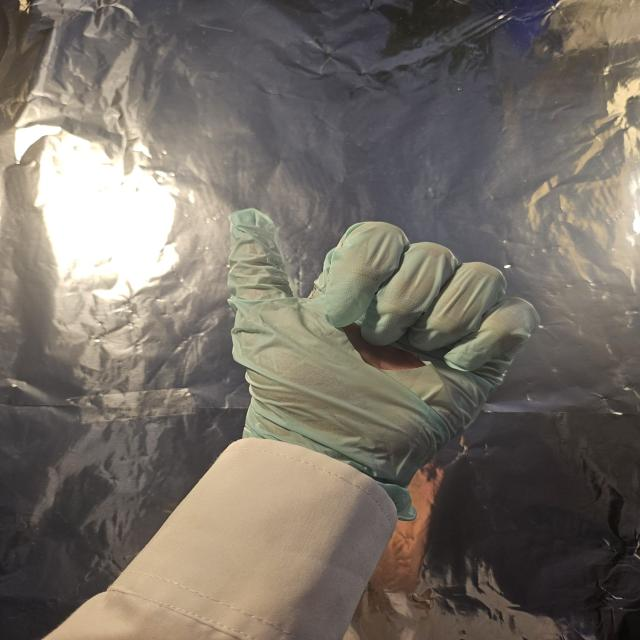gloves_damaged: (229, 206, 544, 508)
